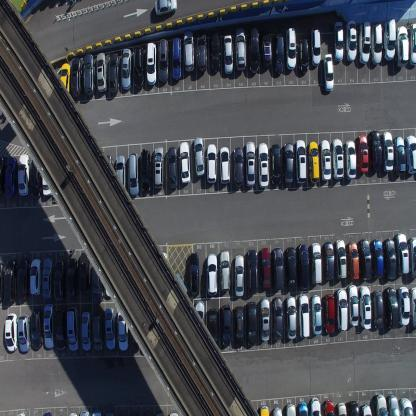car: (385, 285, 399, 329), (396, 285, 411, 326), (394, 232, 408, 275), (132, 44, 145, 90), (358, 237, 371, 282), (297, 293, 310, 338), (248, 27, 260, 75), (178, 140, 191, 184), (104, 306, 117, 350), (83, 53, 96, 97), (358, 21, 371, 65), (369, 129, 382, 173), (307, 139, 320, 183), (297, 243, 309, 290), (257, 141, 269, 188), (383, 237, 396, 280), (67, 305, 79, 351), (295, 138, 307, 184), (244, 140, 256, 186), (393, 135, 406, 177), (331, 138, 344, 180), (246, 301, 258, 346), (91, 257, 103, 302), (4, 257, 16, 302), (285, 246, 297, 291), (346, 18, 358, 63), (17, 258, 30, 299), (4, 311, 17, 352), (371, 238, 384, 279), (344, 139, 357, 180), (319, 139, 332, 180), (158, 37, 169, 85), (246, 250, 258, 294), (17, 152, 29, 196), (53, 258, 65, 302), (359, 285, 371, 329), (285, 296, 297, 340), (145, 42, 157, 86), (285, 26, 297, 70), (382, 129, 394, 173), (270, 142, 282, 186), (356, 133, 369, 173), (182, 29, 194, 72), (166, 146, 178, 189), (188, 251, 200, 294), (114, 153, 126, 196), (30, 156, 42, 199), (155, 250, 167, 293), (336, 288, 348, 331), (272, 247, 284, 290), (259, 247, 271, 290), (70, 56, 82, 99), (384, 18, 396, 61), (397, 24, 409, 67), (347, 241, 360, 280), (171, 36, 182, 82), (128, 152, 139, 198), (235, 26, 246, 72), (220, 303, 232, 345), (195, 30, 207, 72), (209, 31, 221, 73), (193, 135, 205, 177), (102, 153, 114, 195), (54, 308, 66, 350), (18, 312, 30, 354), (347, 284, 359, 326), (335, 238, 347, 280), (108, 52, 120, 94), (232, 146, 244, 188), (140, 148, 151, 193), (43, 304, 54, 349), (272, 296, 283, 341), (29, 258, 42, 296), (30, 309, 42, 350), (310, 294, 322, 335), (260, 27, 272, 68), (206, 252, 217, 296), (259, 297, 270, 341), (283, 142, 294, 186), (4, 156, 16, 196), (92, 310, 104, 350), (66, 258, 78, 298), (81, 310, 93, 350), (372, 289, 384, 329), (323, 293, 335, 333), (322, 52, 334, 92), (404, 134, 416, 174), (219, 249, 230, 292), (233, 254, 244, 297), (311, 242, 322, 285), (323, 241, 335, 280), (206, 142, 217, 184), (233, 305, 244, 347), (310, 25, 321, 67), (333, 20, 344, 62), (372, 22, 383, 64), (194, 298, 204, 344), (218, 146, 230, 184), (58, 62, 70, 100), (52, 164, 63, 205), (154, 144, 164, 189), (297, 37, 309, 74), (79, 250, 89, 294), (96, 52, 107, 92), (208, 306, 218, 349), (42, 256, 52, 299), (121, 48, 131, 91), (130, 310, 140, 352), (118, 309, 128, 351), (223, 34, 233, 76), (274, 32, 284, 74), (154, 0, 177, 18), (42, 157, 52, 197), (106, 258, 116, 298), (408, 235, 416, 279), (374, 392, 388, 416), (386, 394, 400, 416), (409, 286, 416, 330), (399, 396, 414, 415), (410, 22, 416, 67), (0, 156, 6, 194), (309, 397, 321, 415), (347, 398, 359, 416), (0, 260, 5, 302), (322, 400, 335, 415), (336, 400, 347, 416), (285, 402, 296, 416), (297, 401, 308, 415), (360, 403, 372, 415), (258, 404, 270, 415), (272, 405, 282, 415), (91, 408, 102, 415), (154, 410, 165, 416), (79, 409, 89, 415), (143, 410, 152, 416), (412, 398, 415, 416), (68, 410, 78, 415), (167, 411, 179, 415), (16, 411, 26, 415), (42, 411, 52, 415), (104, 411, 114, 415)
